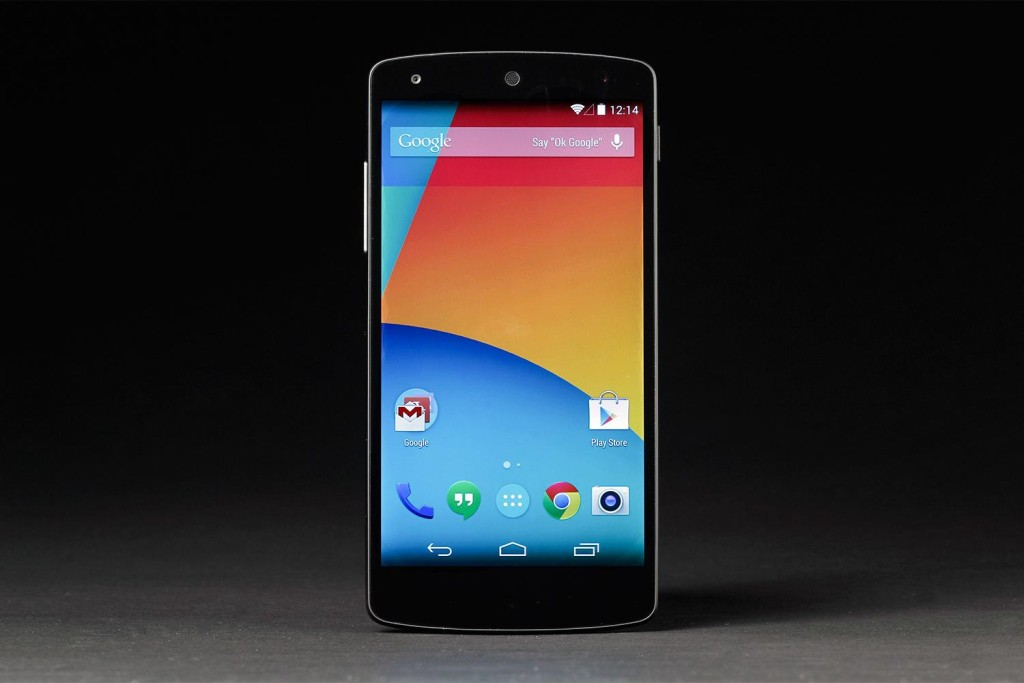smartphone: (362, 50, 662, 631)
